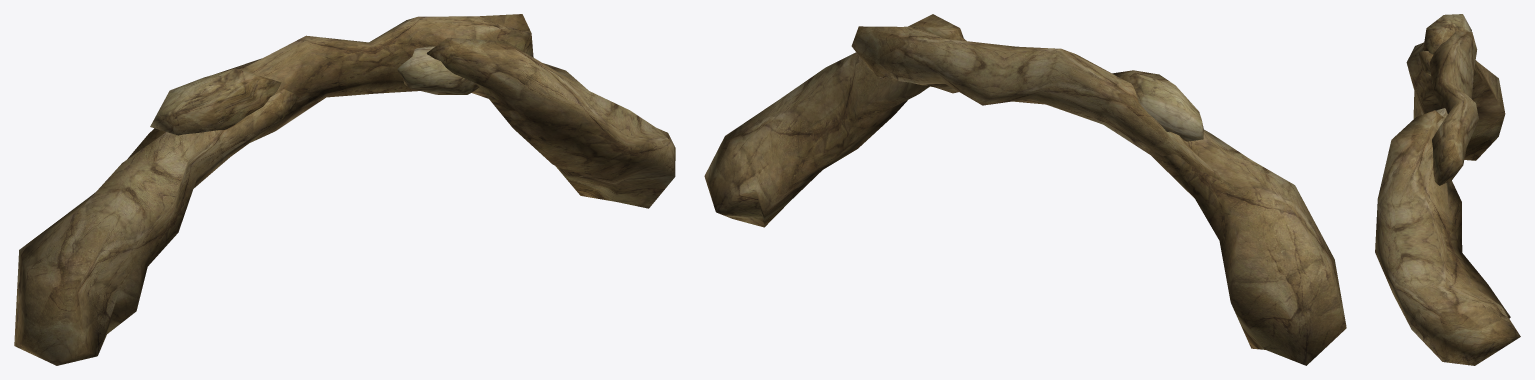
Rendered from PillarRock.FBX.
3 renders of one model, left to right at view 1: azimuth 30°, elevation 25°; view 2: azimuth 150°, elevation 25°; view 3: azimuth 270°, elevation 25°, orthographic. The views are drawn at different scales.
Parts seen in each view (by area): view 1: PillarRock; view 2: PillarRock; view 3: PillarRock.
Part boxes in pixels (x1,y1,x2,y2): PillarRock: [14, 14, 675, 365]; PillarRock: [704, 14, 1346, 365]; PillarRock: [1375, 14, 1520, 365].
Size of the model in its own units: 2607 by 1006 by 650.
